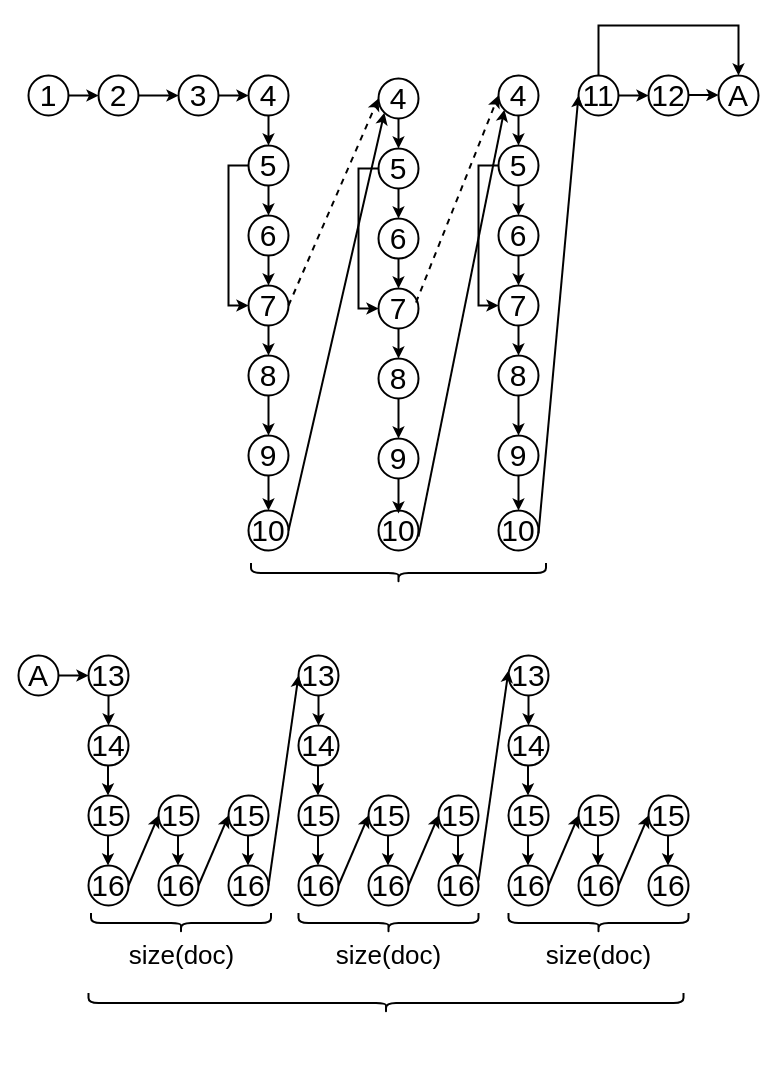
This 776x1070 diagram has some shape labels left out. Each missing label, with the centre of its shape:
len(text): point 398,573
size(sentences): point 385,1003
